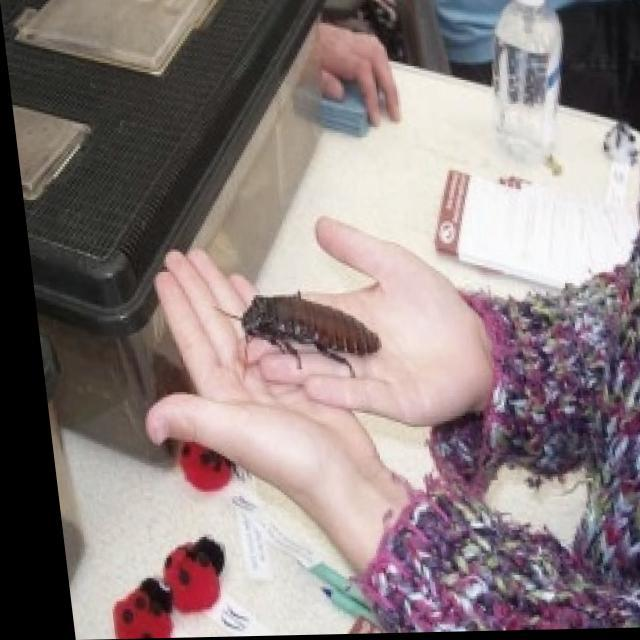cockroach: (218, 286, 385, 379)
